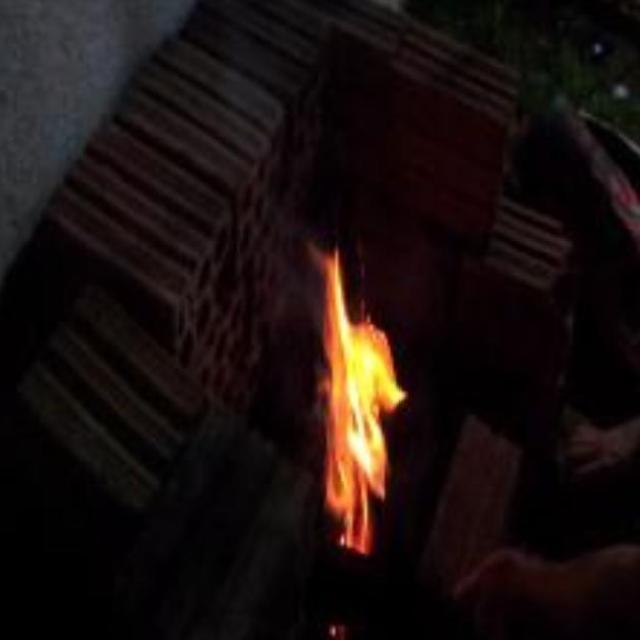smoke: (306, 243, 408, 552)
